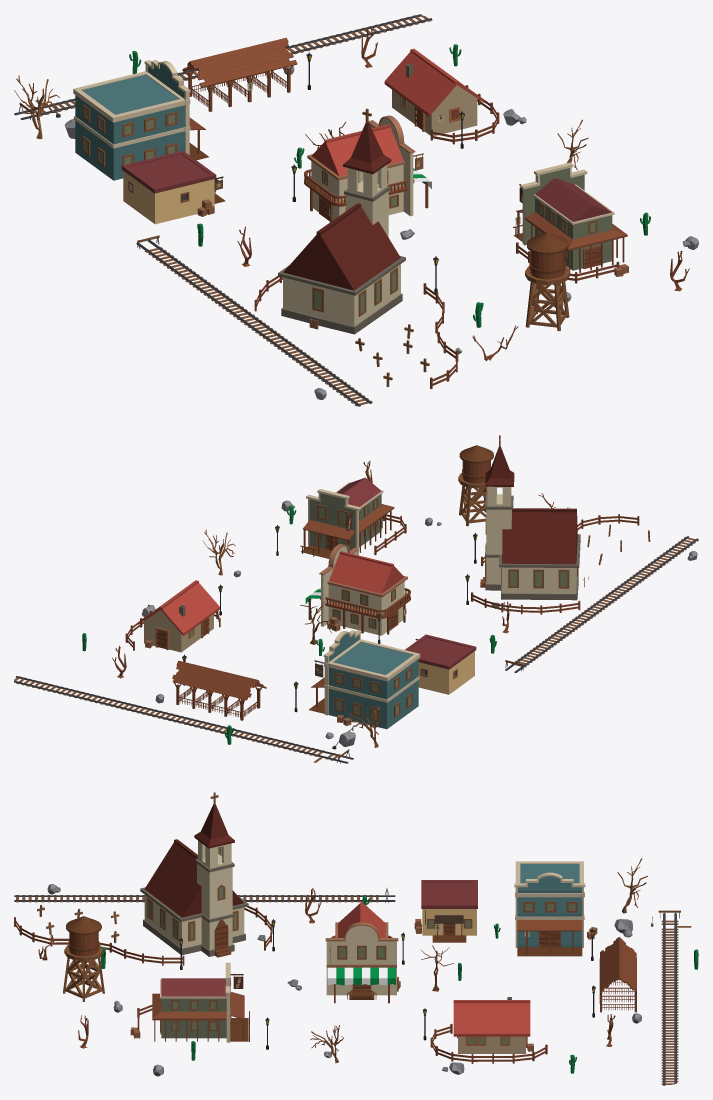
File: Gebäude.fbx
3 renders of one model, top to bottom at view 1: azimuth 30°, elevation 25°; view 2: azimuth 150°, elevation 25°; view 3: azimuth 270°, elevation 25°, orthographic. The views are drawn at different scales.
Visible parts, largest first — view 1: Korpus; view 2: Korpus; view 3: Korpus.
Part boxes in pixels (x1,y1,x2,y2): Korpus: [14, 14, 698, 406]; Korpus: [14, 435, 698, 763]; Korpus: [14, 792, 698, 1085].
Bounding box in the file's own units: 4302 × 1644 × 6299.
